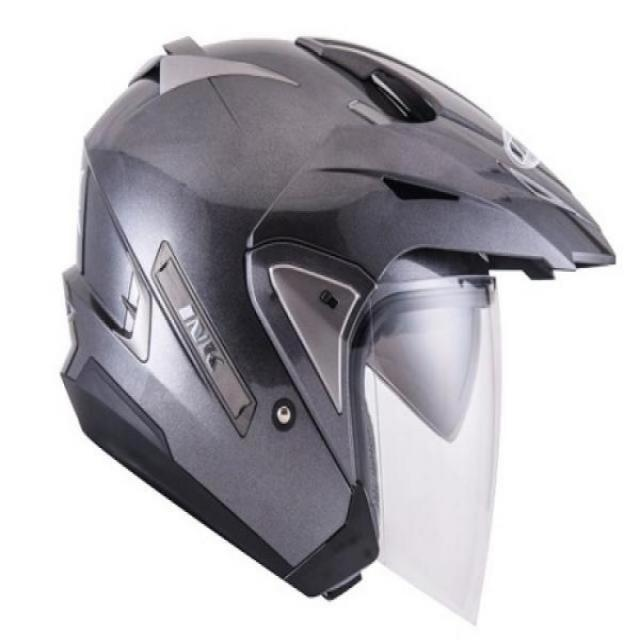Helmet: (58, 15, 618, 626)
